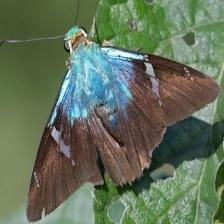butterfly: (27, 28, 219, 222)
